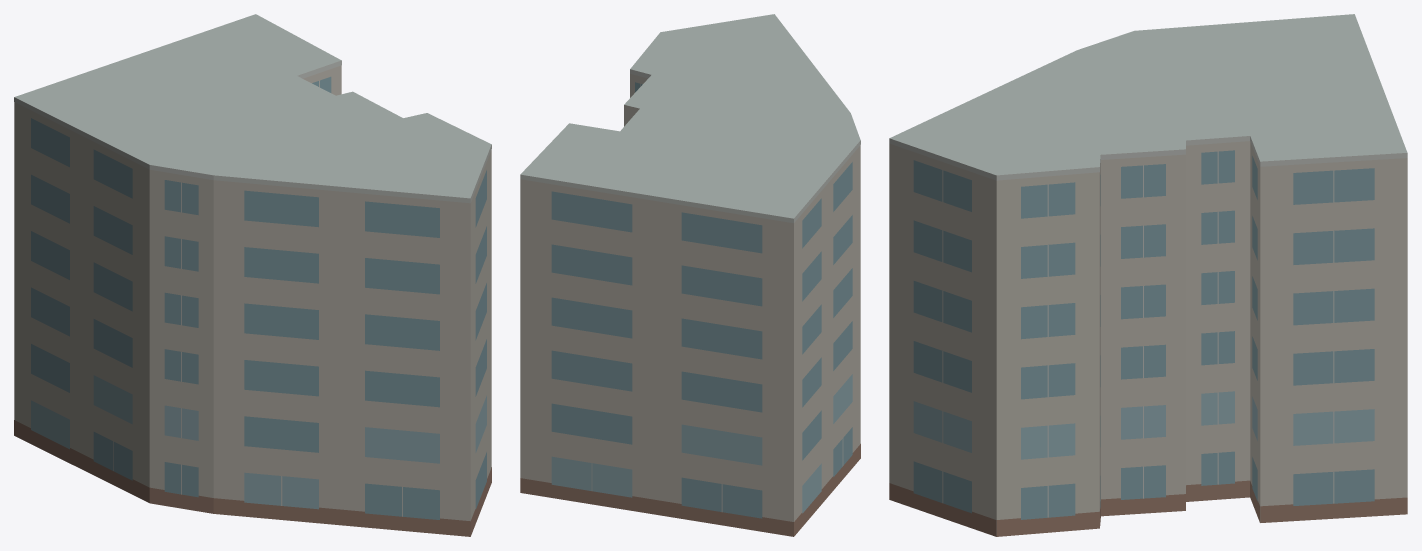
Rendered from survey-upis-32533581.glb.
3 views of the same model, side by side, from view 1: azimuth 30°, elevation 25°; view 2: azimuth 150°, elevation 25°; view 3: azimuth 270°, elevation 25° (orthographic). The views are drawn at different scales.
Parts seen in each view (by area): view 1: survey-upis-32533581.tmp; view 2: survey-upis-32533581.tmp; view 3: survey-upis-32533581.tmp.
Part boxes in pixels (left/top/right/bottom): survey-upis-32533581.tmp: left=14, top=14, right=491, bottom=536; survey-upis-32533581.tmp: left=520, top=14, right=860, bottom=536; survey-upis-32533581.tmp: left=889, top=14, right=1407, bottom=536.
Bounding box in the file's own units: 16.2 × 16.9 × 21.97.
